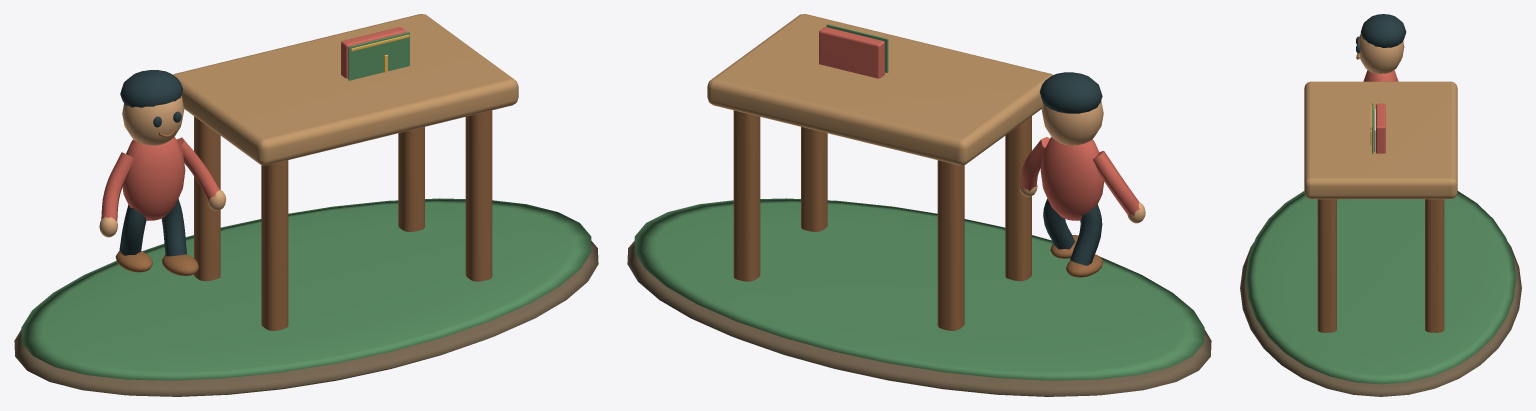
Rendered from child-table.glb.
The picture shows the model from 3 angles, left to right: view 1: azimuth 30°, elevation 25°; view 2: azimuth 150°, elevation 25°; view 3: azimuth 270°, elevation 25°; orthographic projection. The views are drawn at different scales.
Parts seen in each view (by area): view 1: child-table_surface_01, child-table_surface_02, child-table_surface_03, child-table_surface_00, child-table_surface_06, child-table_surface_05, child-table_surface_04; view 2: child-table_surface_01, child-table_surface_02, child-table_surface_03, child-table_surface_00, child-table_surface_06, child-table_surface_05, child-table_surface_04; view 3: child-table_surface_01, child-table_surface_02, child-table_surface_03, child-table_surface_00, child-table_surface_05, child-table_surface_04, child-table_surface_06.
Part boxes in pixels (<box>): child-table_surface_01: <box>21,32,591,380</box>; child-table_surface_02: <box>173,14,518,165</box>; child-table_surface_03: <box>115,110,492,330</box>; child-table_surface_00: <box>14,241,598,396</box>; child-table_surface_06: <box>101,27,406,220</box>; child-table_surface_05: <box>119,70,186,256</box>; child-table_surface_04: <box>99,96,226,237</box>; child-table_surface_01: <box>634,24,1204,380</box>; child-table_surface_02: <box>707,14,1053,165</box>; child-table_surface_03: <box>733,110,1103,330</box>; child-table_surface_00: <box>627,241,1211,396</box>; child-table_surface_06: <box>819,27,1139,220</box>; child-table_surface_05: <box>1039,72,1102,265</box>; child-table_surface_04: <box>1019,101,1145,223</box>; child-table_surface_01: <box>1245,103,1516,384</box>; child-table_surface_02: <box>1304,81,1457,199</box>; child-table_surface_03: <box>1317,53,1444,332</box>; child-table_surface_00: <box>1240,242,1521,396</box>; child-table_surface_05: <box>1356,14,1406,53</box>; child-table_surface_04: <box>1358,33,1404,73</box>; child-table_surface_06: <box>1363,70,1398,153</box>.
Size of the model in its own units: 4.56 by 2.2 by 2.5.
